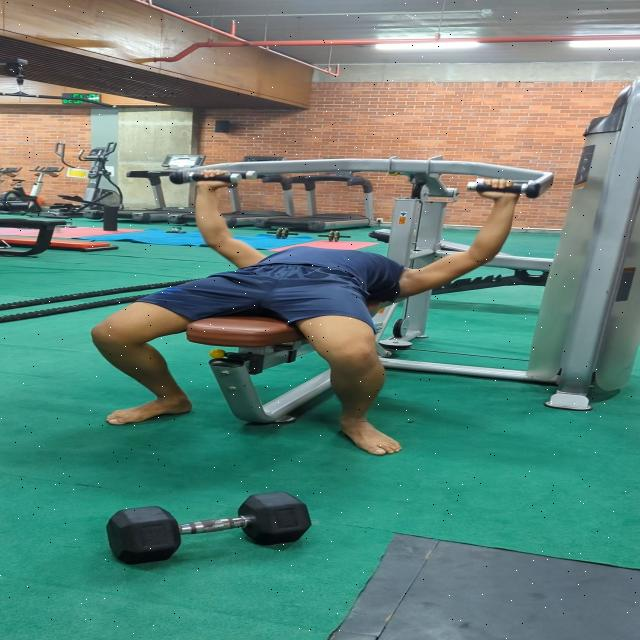Normal_BrenchPress: (38, 152, 557, 458)
